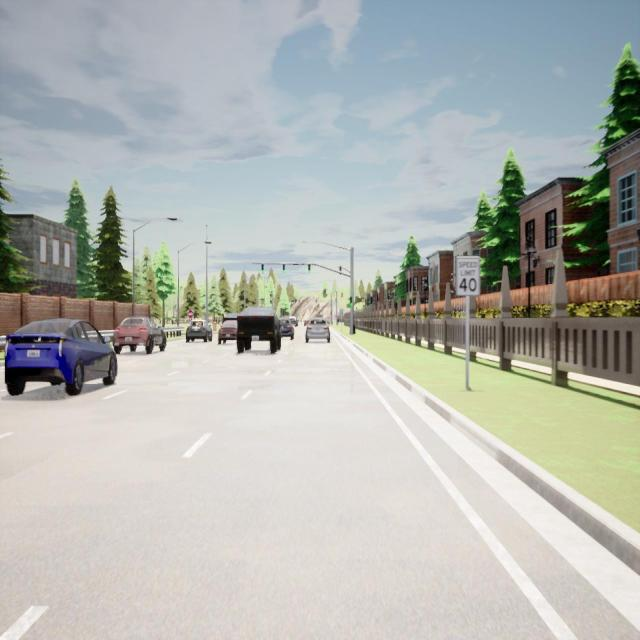Traffic_Signs: (455, 257, 480, 296), (188, 310, 194, 319)
Vehicle: (4, 318, 118, 396), (237, 306, 280, 354), (112, 317, 166, 355), (306, 318, 330, 344), (186, 320, 212, 342), (218, 320, 237, 345), (280, 319, 295, 341), (289, 316, 298, 327), (223, 313, 237, 320), (304, 319, 310, 327)
traffic_light: (261, 264, 264, 274), (308, 264, 311, 274), (339, 266, 342, 274), (350, 296, 352, 307), (283, 264, 285, 273)
